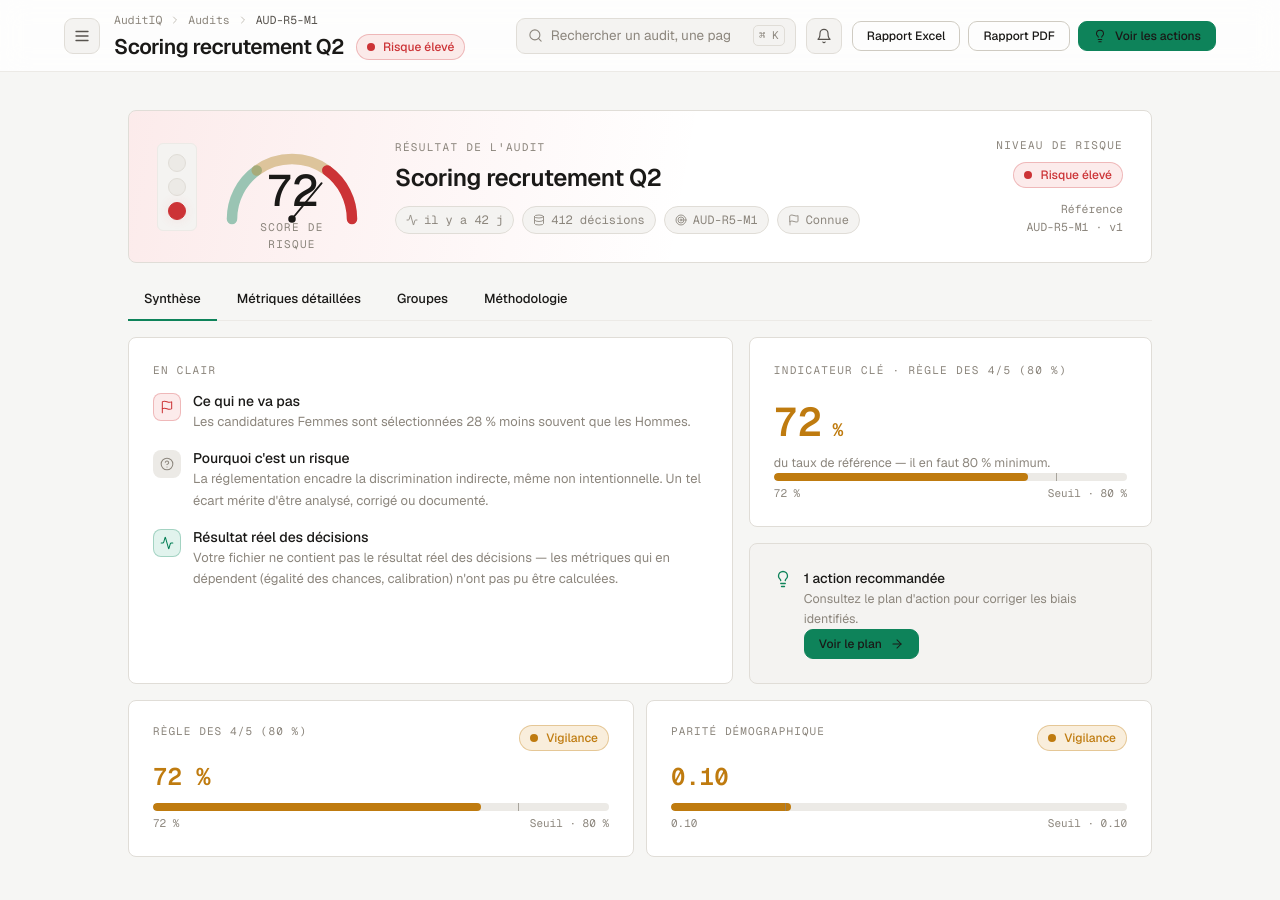
Test: R5 M1 — RatioBar in Groupes tab › renders the Groupes tab and shows RatioBar (role=img)
What coordinates should you click on to do the following:
click the tab "Groupes"
I would click on:
 (422, 300)
Its box is [381, 279, 464, 321].
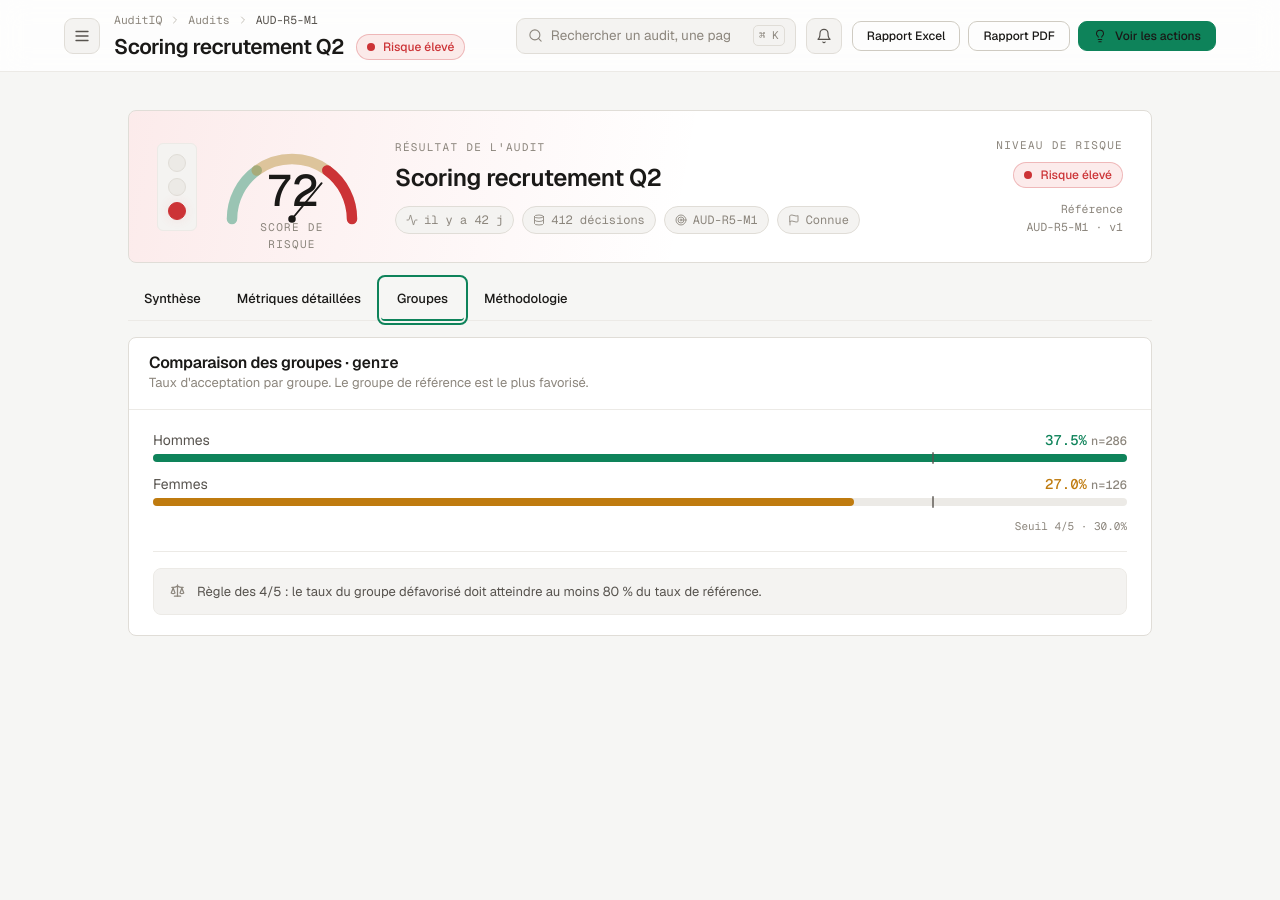
Expected: the picture named "comparaison des groupes" is shown, [153, 430, 1127, 535]
